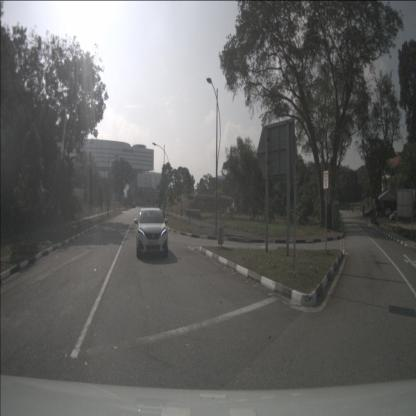vehicle-car: (136, 206, 168, 258), (389, 211, 403, 221), (365, 209, 375, 216), (386, 208, 391, 217)
